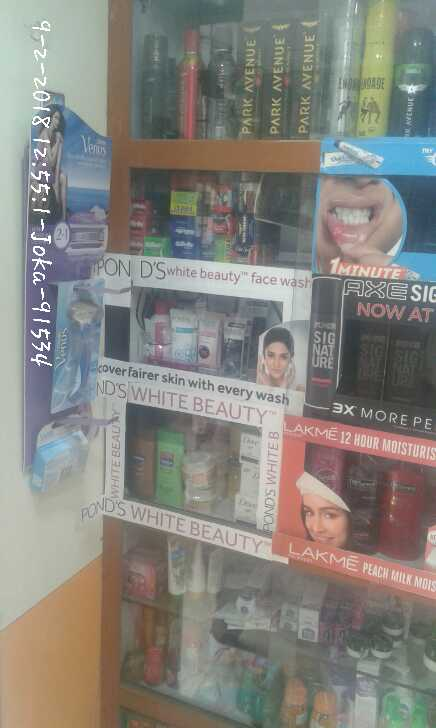venus: (54, 278, 105, 414)
